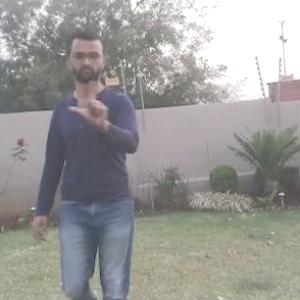land_hand: (66, 74, 113, 120)
